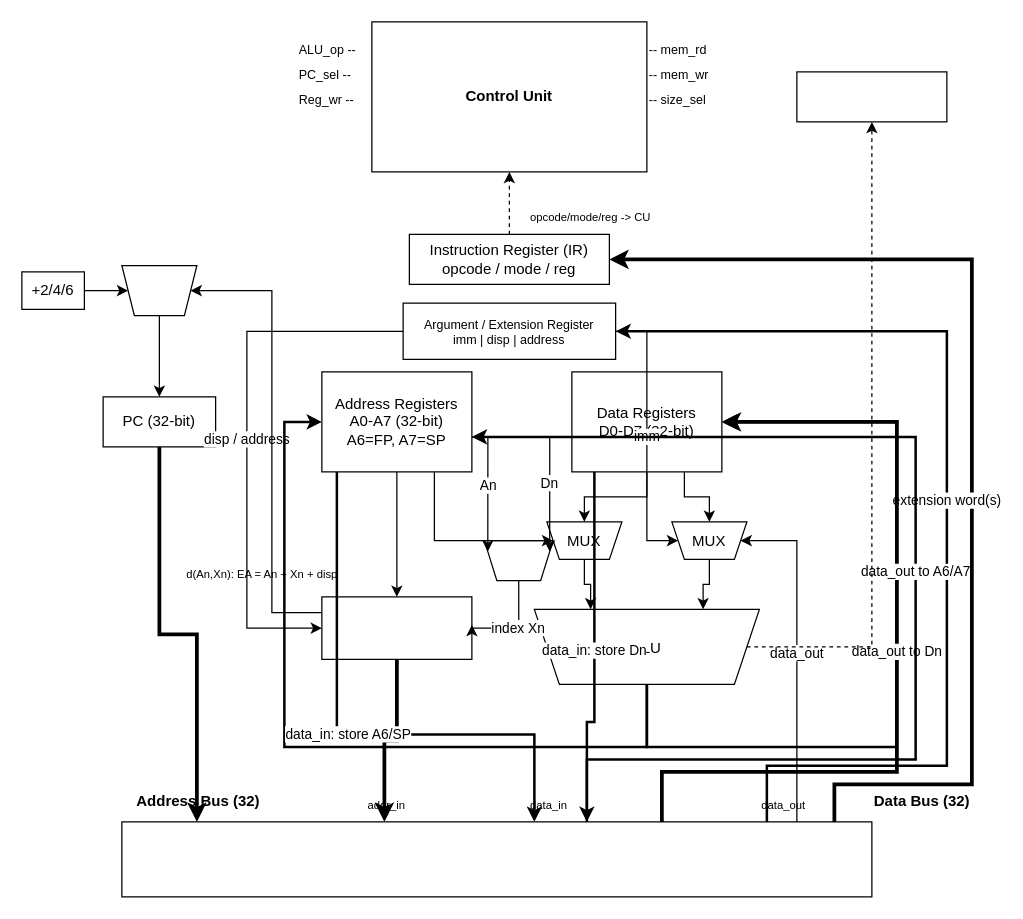
Some shapes in this 1023 by 919 pixel diagram are drawn without their labels. The centre of each missing label's shape, as x and y in pixels:
EA Adder (Address Gen): (x=396, y=627)
Index MUX: (x=518, y=560)
Memory & I/O inputs: addr_in, data_in output: data_out: (x=496, y=859)
PC MUX: (x=159, y=290)
Status Register (SR) [N Z V C]: (x=871, y=96)
